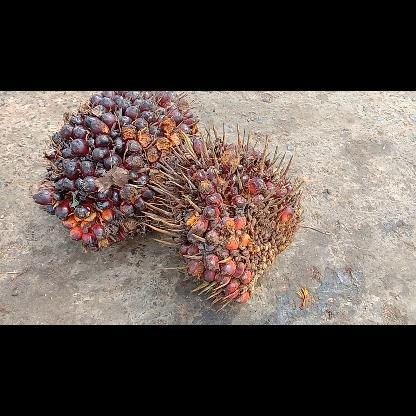Kurang masak: (32, 91, 198, 251)
TBS masak: (143, 122, 305, 310)
